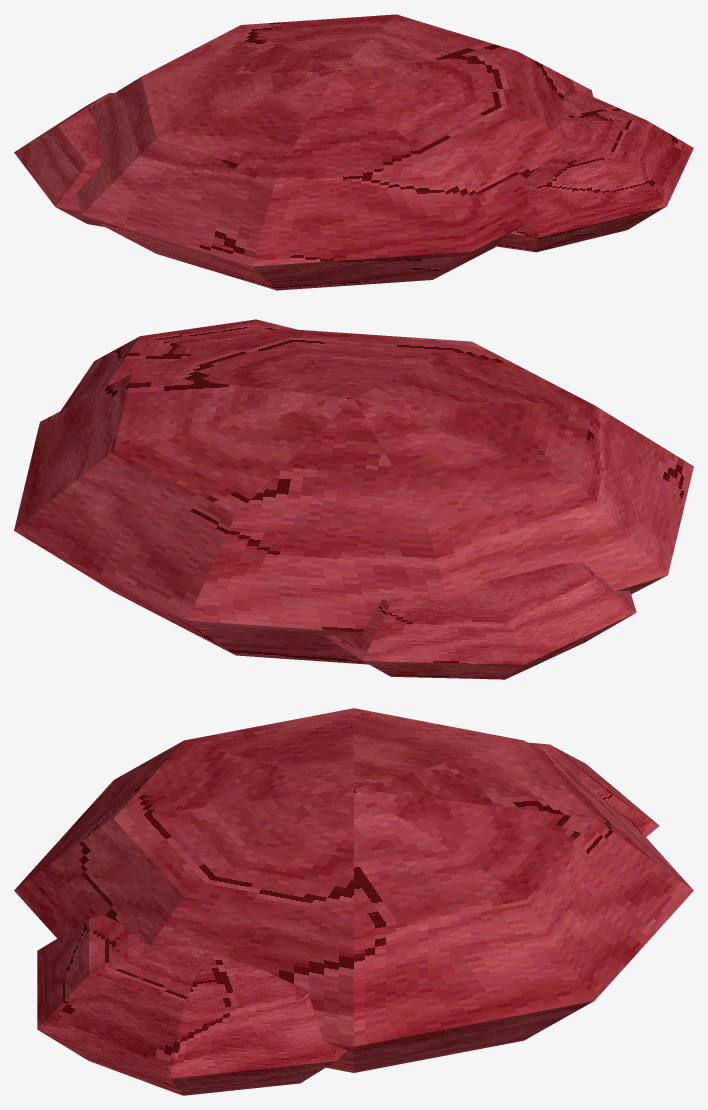
The model's file is musgo_carmesim.glb.
3 views of the same model, one above another, from view 1: azimuth 30°, elevation 25°; view 2: azimuth 150°, elevation 25°; view 3: azimuth 270°, elevation 25° (orthographic). The views are drawn at different scales.
Parts seen in each view (by area): view 1: musgo_carmesim; view 2: musgo_carmesim; view 3: musgo_carmesim.
Part boxes in pixels (box(x1,y1,x2,y2)): musgo_carmesim: box(14, 14, 693, 290); musgo_carmesim: box(14, 319, 693, 679); musgo_carmesim: box(14, 708, 693, 1095).
Size of the model in its own units: 1.01 by 0.2888 by 0.874.
Materials: 1 (1 with a texture image).
